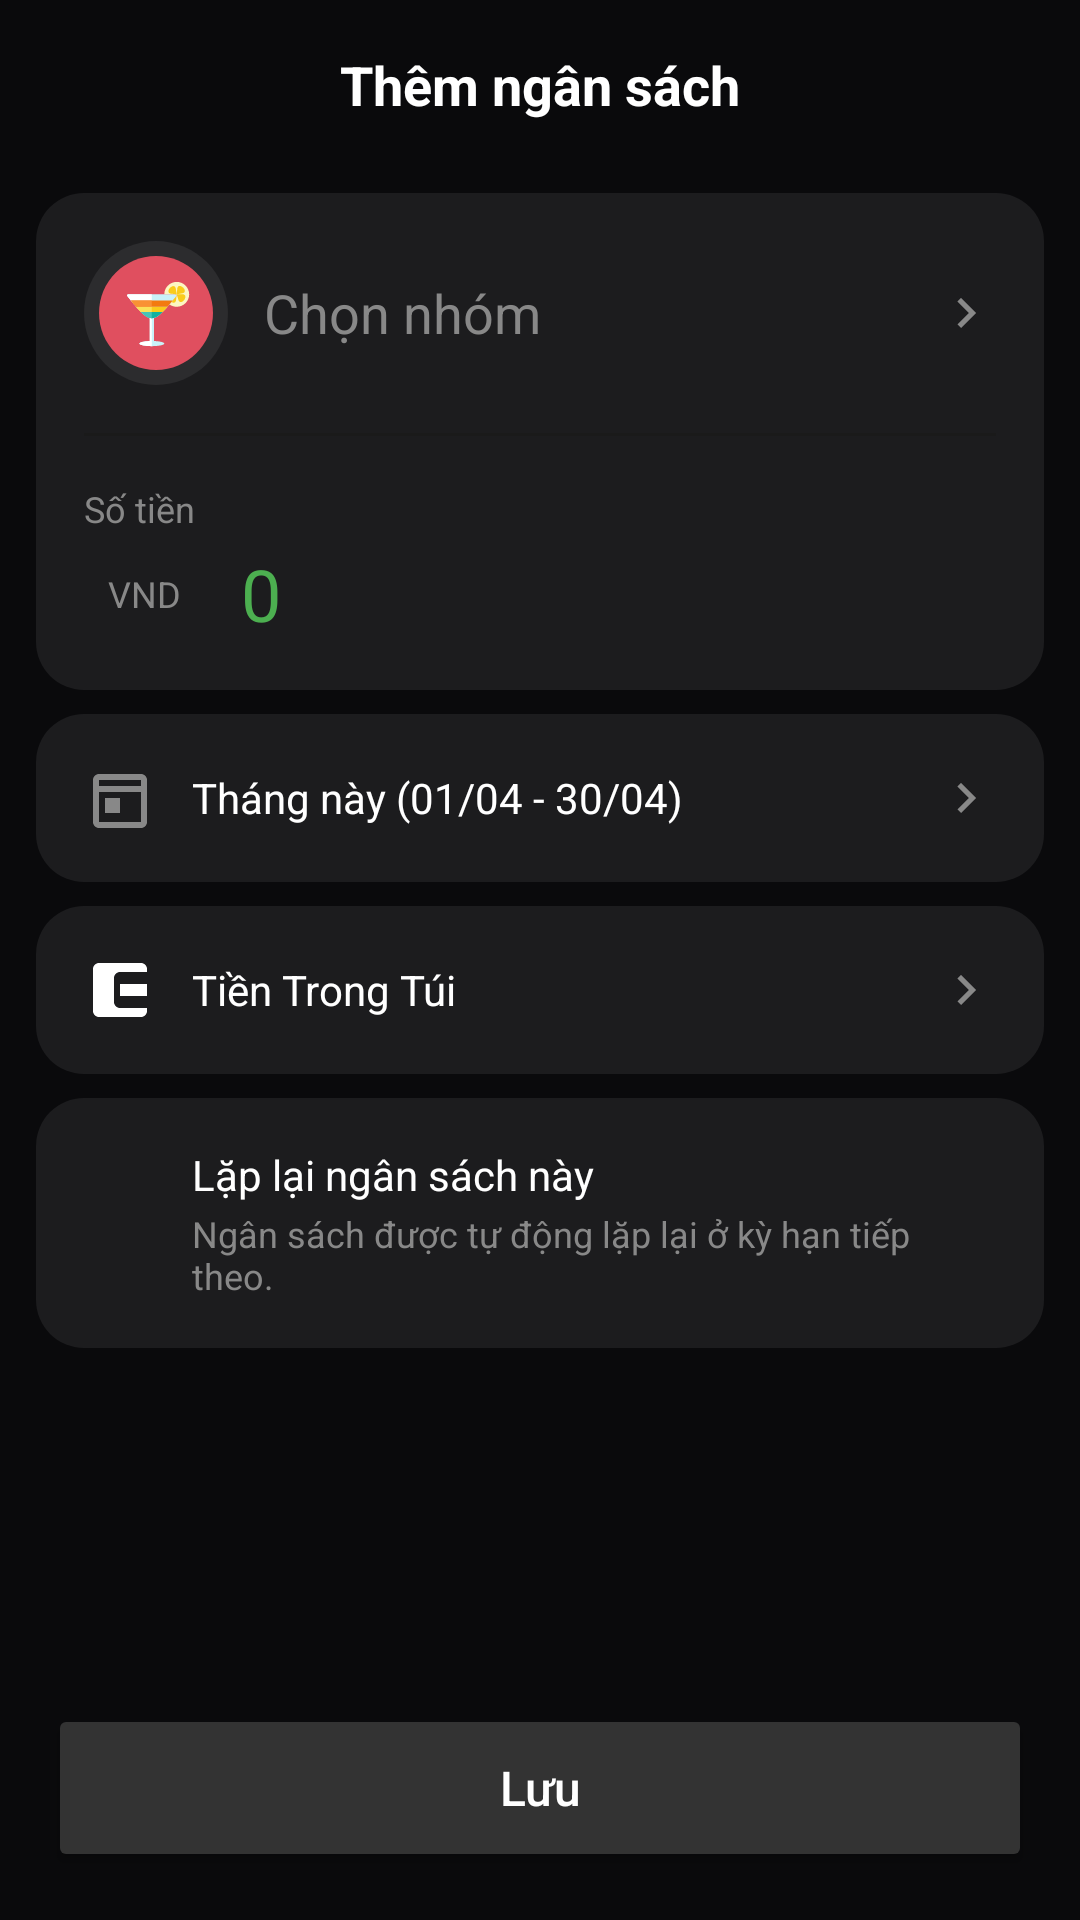

Point at icon controls on the screen. Image size 1080w x 1920h, points as (x=x, y=y).
calendar: (x=120, y=801)
chevron right: (x=966, y=313), (x=966, y=798), (x=966, y=990)
wallet: (x=120, y=990)
